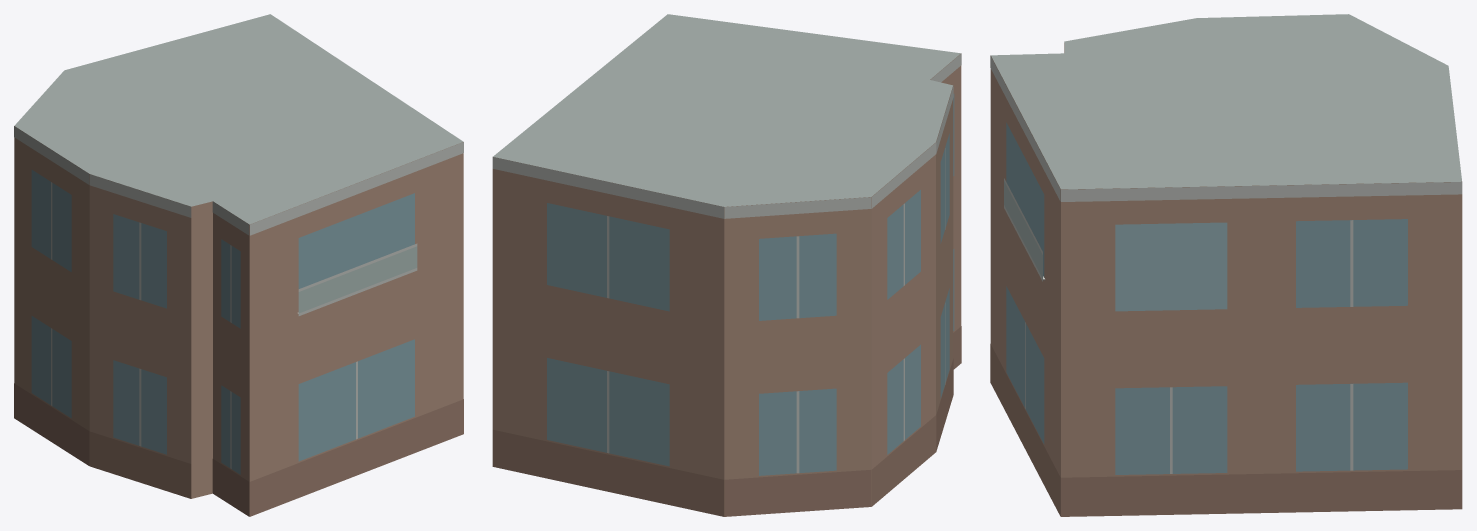
The model's file is survey-upis-33011908.glb.
3 renders of one model, left to right at view 1: azimuth 30°, elevation 25°; view 2: azimuth 150°, elevation 25°; view 3: azimuth 270°, elevation 25°, orthographic. The views are drawn at different scales.
Parts seen in each view (by area): view 1: survey-upis-33011908.tmp; view 2: survey-upis-33011908.tmp; view 3: survey-upis-33011908.tmp.
Part boxes in pixels (<box>): survey-upis-33011908.tmp: <box>14,14,463,516</box>; survey-upis-33011908.tmp: <box>492,14,961,516</box>; survey-upis-33011908.tmp: <box>990,14,1462,516</box>.
Size of the model in its own units: 7.25 by 6.3 by 8.24.
